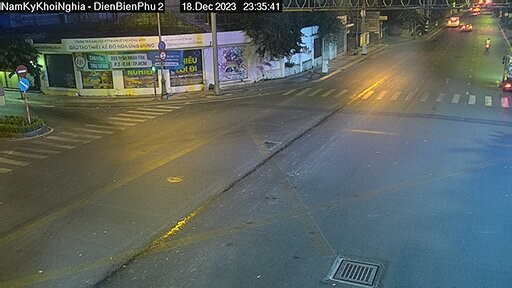car: (444, 13, 459, 27)
